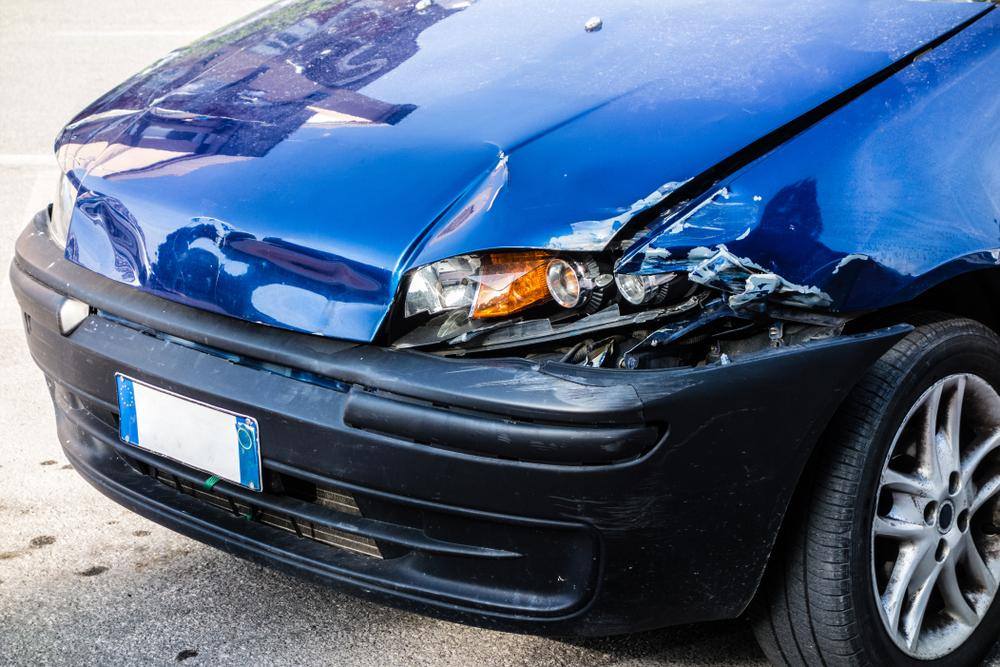crack: (535, 363, 647, 422)
dent: (72, 138, 667, 342), (622, 186, 918, 318)
lamp broken: (358, 246, 832, 368)
scratch: (446, 360, 640, 409)
